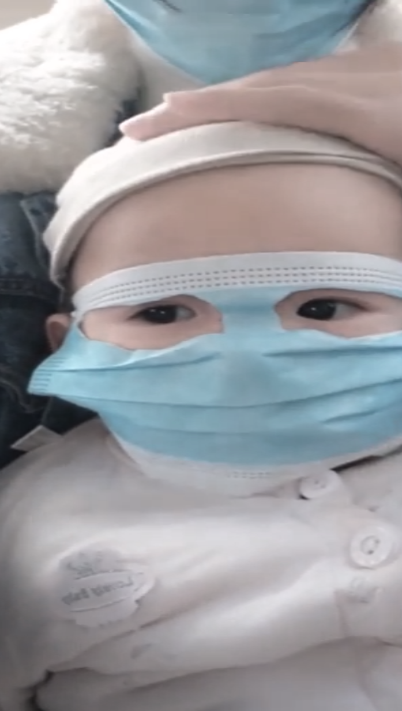mask_weared_incorrect: (32, 134, 401, 475)
